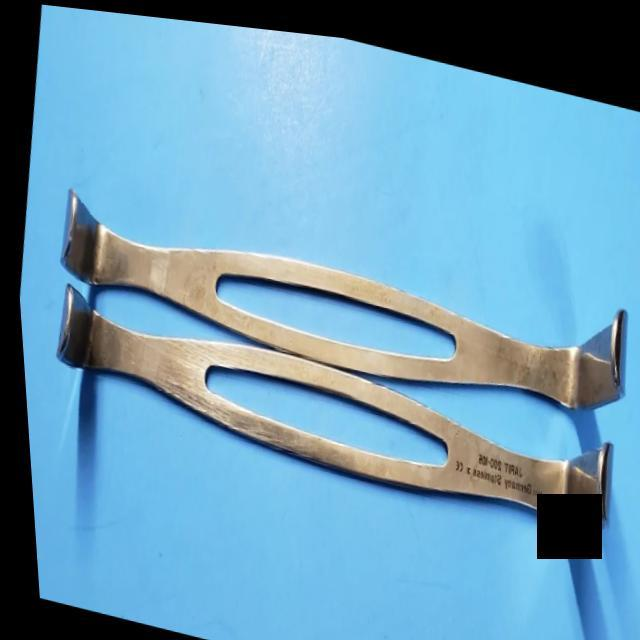Army Navy Retractor: (37, 158, 636, 426), (35, 281, 622, 534)
